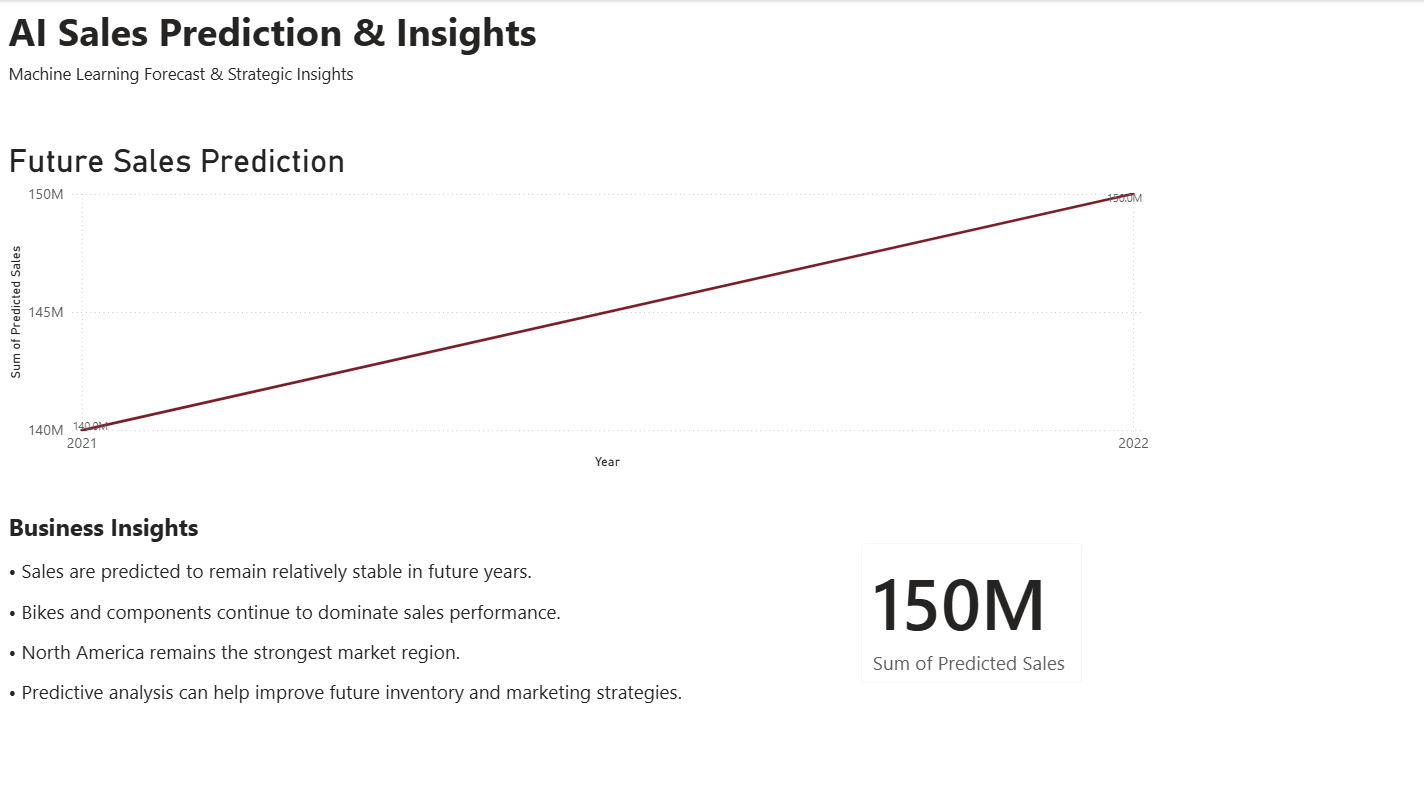

Layout of this report page (visuals, bound fields, positions):
{"tool":"powerbi","page":{"name":"AI Prediction","canvas":[1600,900],"ordinal":2},"visuals":[{"type":"textbox","box":[9.9,0,702,86],"z":0},{"type":"lineChart","title":"Future Sales Prediction","fields":{"Category":["sales_prediction.Year"],"Y":["Sum(sales_prediction.Predicted Sales)"]},"box":[9.9,159.3,1287,370.7],"z":1},{"type":"textbox","box":[9.7,566.2,826.7,239.4],"z":2},{"type":"cardVisual","fields":{"Data":["Sum(sales_prediction.Predicted Sales)"]},"box":[952.9,590.5,281.5,190.9],"z":3},{"type":"textbox","box":[9.9,64.8,462.4,45.1],"z":4}]}

Visuals, with their boxes in screenshot pixels (x1, y1, x2, y2), scaled from the page's 1600x900 canvas onto the 1424x799 screenshot:
textbox: rect(9, 0, 634, 76)
"Future Sales Prediction" lineChart: rect(9, 141, 1154, 471)
textbox: rect(9, 503, 744, 715)
cardVisual - Sum(sales_prediction.Predicted Sales): rect(848, 524, 1099, 694)
textbox: rect(9, 58, 420, 98)
